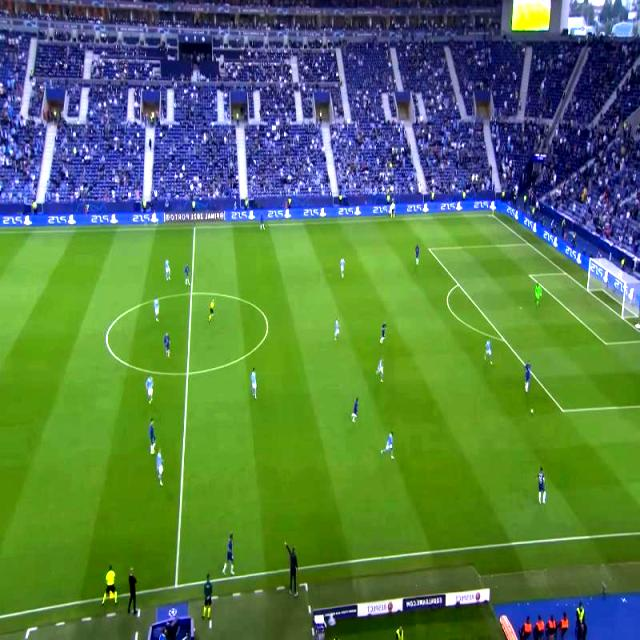bigarea_bottom_inner: (556, 405, 570, 417)
bigarea_top_inner: (423, 243, 435, 254)
bigarea_top_outter: (522, 238, 534, 250)
bottom_arc_area_intersection: (498, 335, 510, 346)
corner: (486, 209, 498, 221)
halfcircle_bottom: (182, 368, 193, 378)
halfcircle_top: (187, 289, 196, 298)
midline_bottom_intersection: (170, 580, 182, 594)
midline_top_intersection: (189, 222, 200, 233)
smallarea_bottom_inner: (600, 339, 613, 351)
smallarea_top_inner: (524, 269, 536, 281)
smallarea_top_outter: (561, 268, 570, 279)
top_arc_area_intersection: (452, 278, 463, 290)
